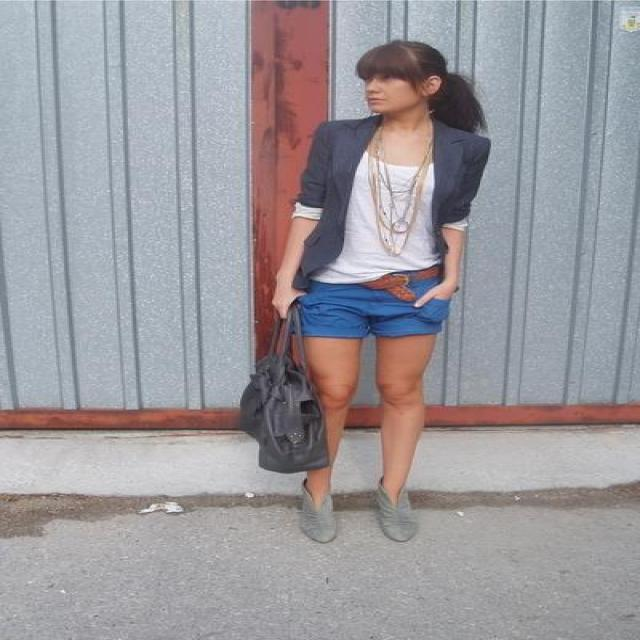bag: (232, 294, 336, 472)
jacket: (291, 115, 490, 292)
shirt: (326, 158, 437, 283)
shoe: (298, 483, 418, 543)
shorts: (296, 263, 450, 338)
